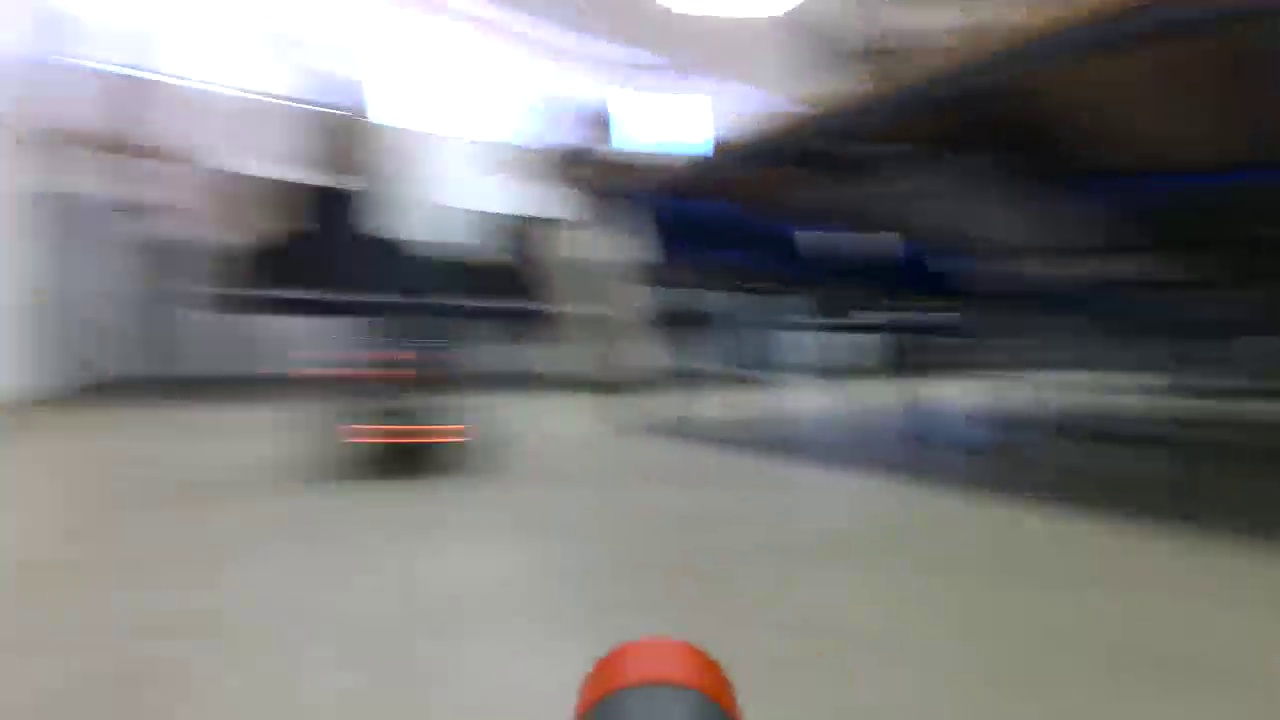robot: (336, 350, 487, 470)
